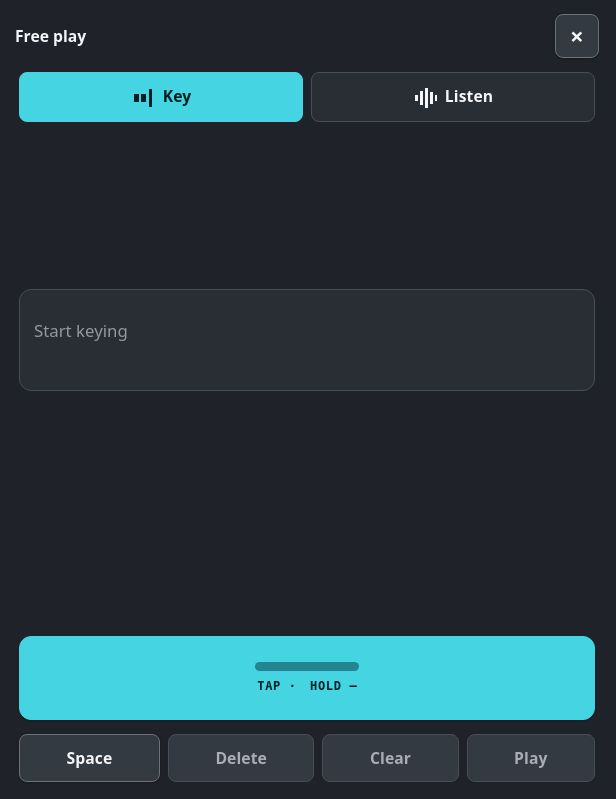
free play › plays typed text and names what it cannot play
Click the tab "Listen": (453, 97) [311, 72, 595, 122]
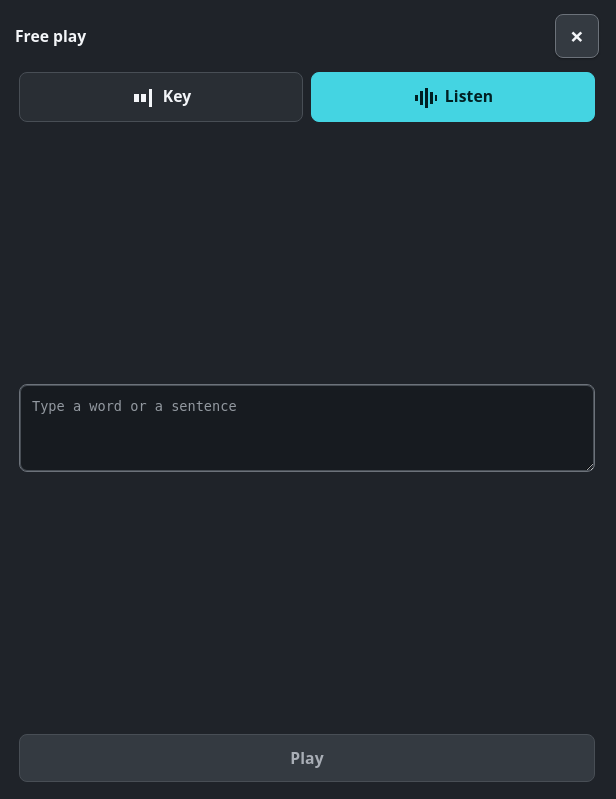
In the text box named "Text to hear": (307, 428) [19, 384, 595, 472], type "hi & bye"
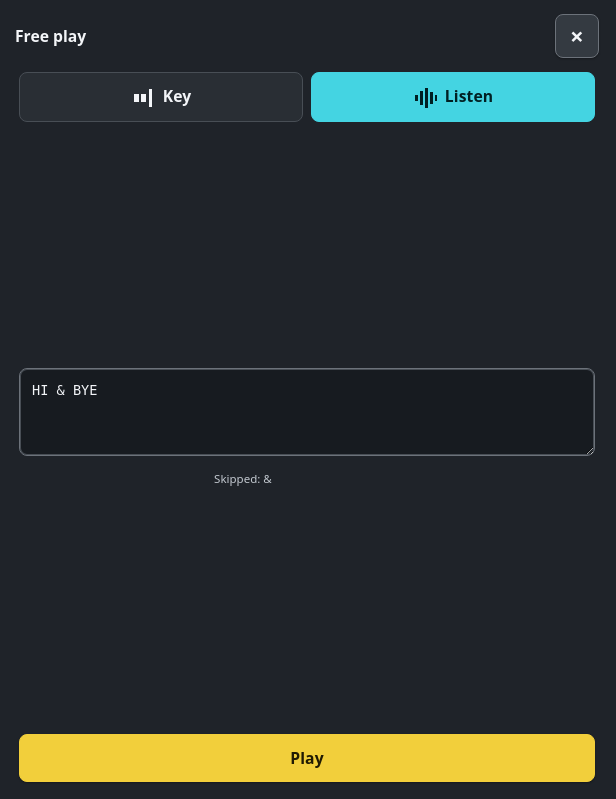
Check: the text "Skipped: &" is shown, box [214, 471, 272, 486]
Check: the button "Play" is enabled, box [19, 734, 595, 782]
